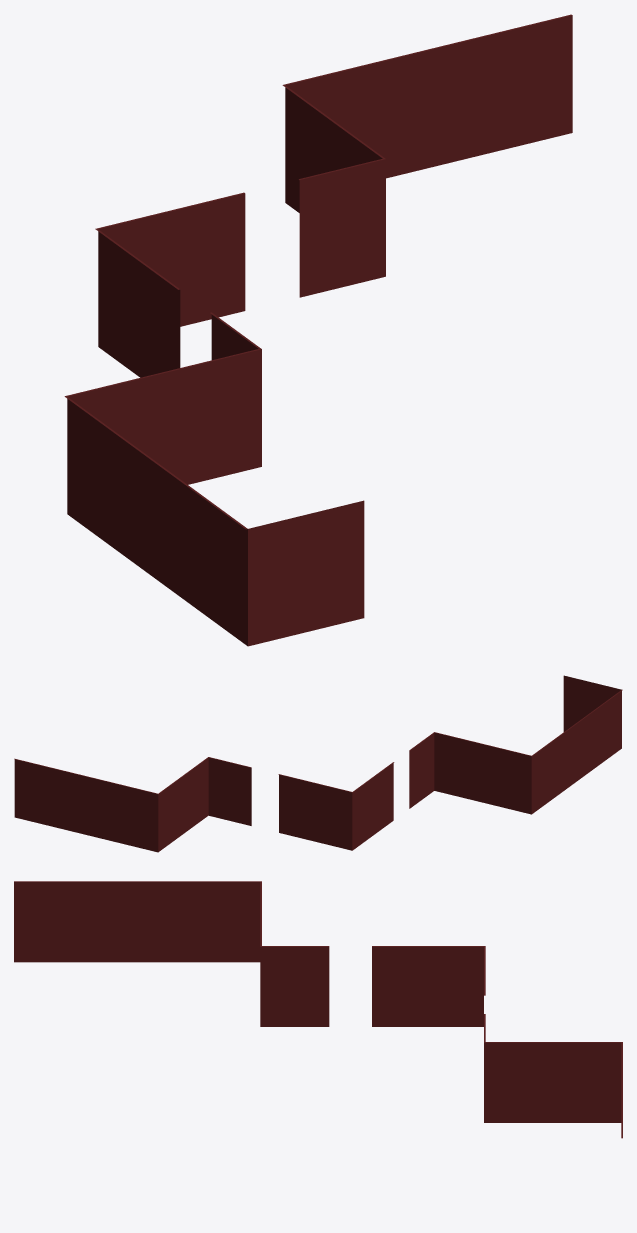
The model's file is p55-wall-angle-front-2-base.fbx.
3 renders of one model, top to bottom at view 1: azimuth 30°, elevation 25°; view 2: azimuth 150°, elevation 25°; view 3: azimuth 270°, elevation 25°, orthographic. The views are drawn at different scales.
Parts seen in each view (by area): view 1: p55-wall-angle-front-2-base; view 2: p55-wall-angle-front-2-base; view 3: p55-wall-angle-front-2-base.
Part boxes in pixels (x1,y1,x2,y2): p55-wall-angle-front-2-base: [64, 14, 572, 646]; p55-wall-angle-front-2-base: [14, 675, 622, 852]; p55-wall-angle-front-2-base: [14, 881, 622, 1138].
Bounding box in the file's own units: 1923 × 280 × 1925.
